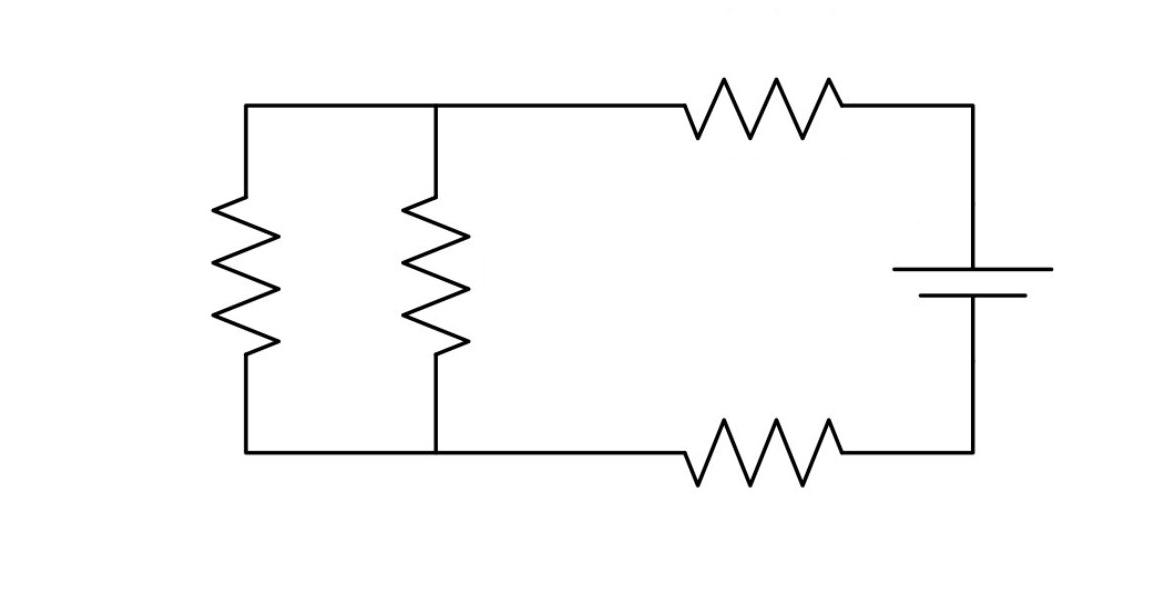resistor: (375, 163, 517, 396), (179, 165, 319, 396), (638, 382, 864, 524), (638, 55, 878, 170)
